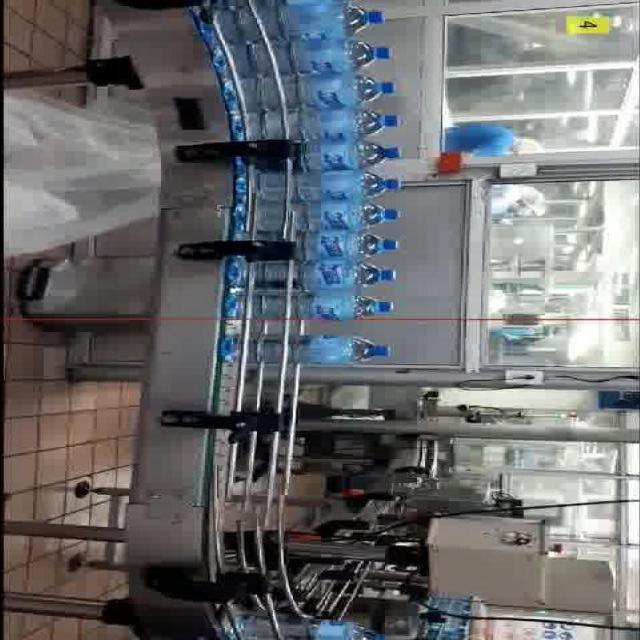bottle: (228, 70, 396, 110), (216, 0, 384, 40), (227, 35, 394, 75), (218, 331, 393, 367), (224, 290, 395, 322), (259, 105, 403, 142), (248, 199, 402, 231), (246, 260, 396, 290), (256, 172, 398, 201), (294, 136, 402, 172), (294, 228, 401, 261)
